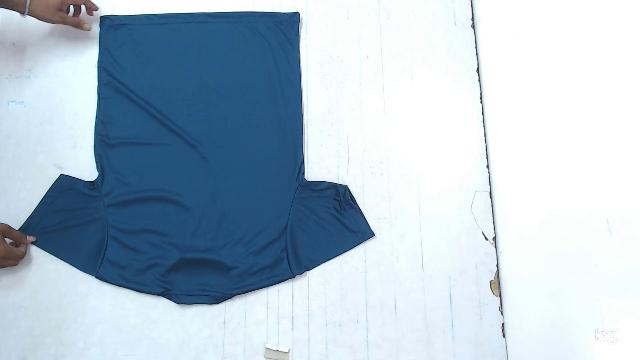new-garment: (21, 12, 374, 304)
